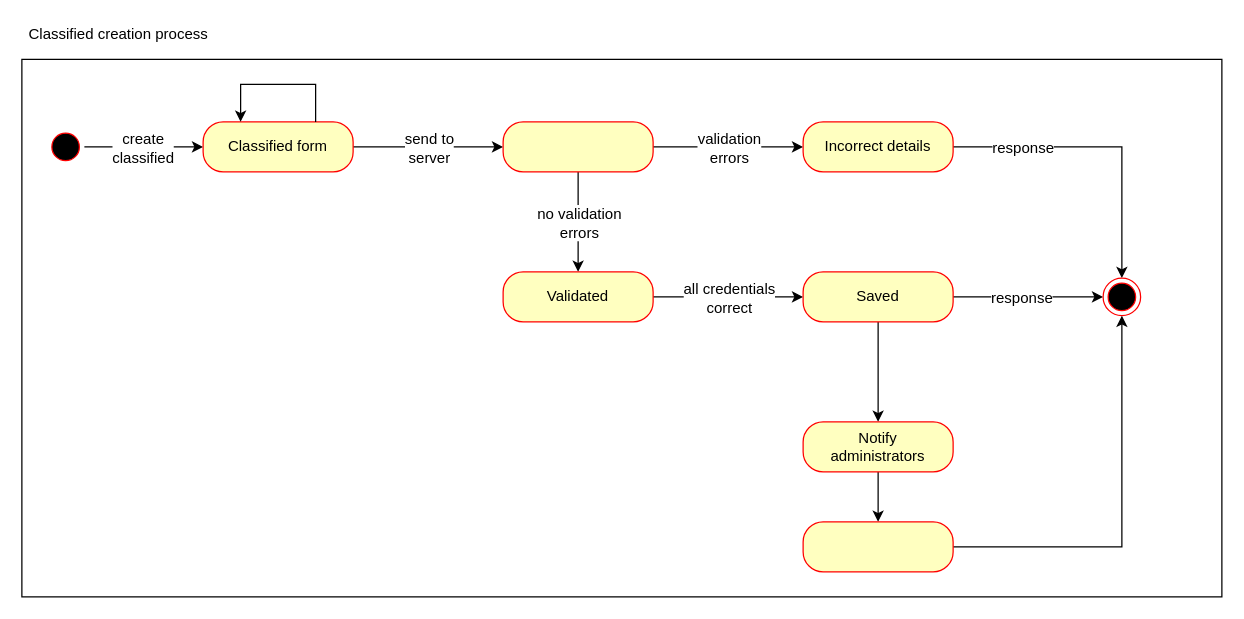
Image size: 1244x619. Some labels were removed from this diagram. The shapes that lost their labels are listed below. From the top down, each one's box as (x1, y1, x2, y2) in pixels, then its label:
(502, 121, 653, 172): Received
(802, 521, 953, 572): Notify students
